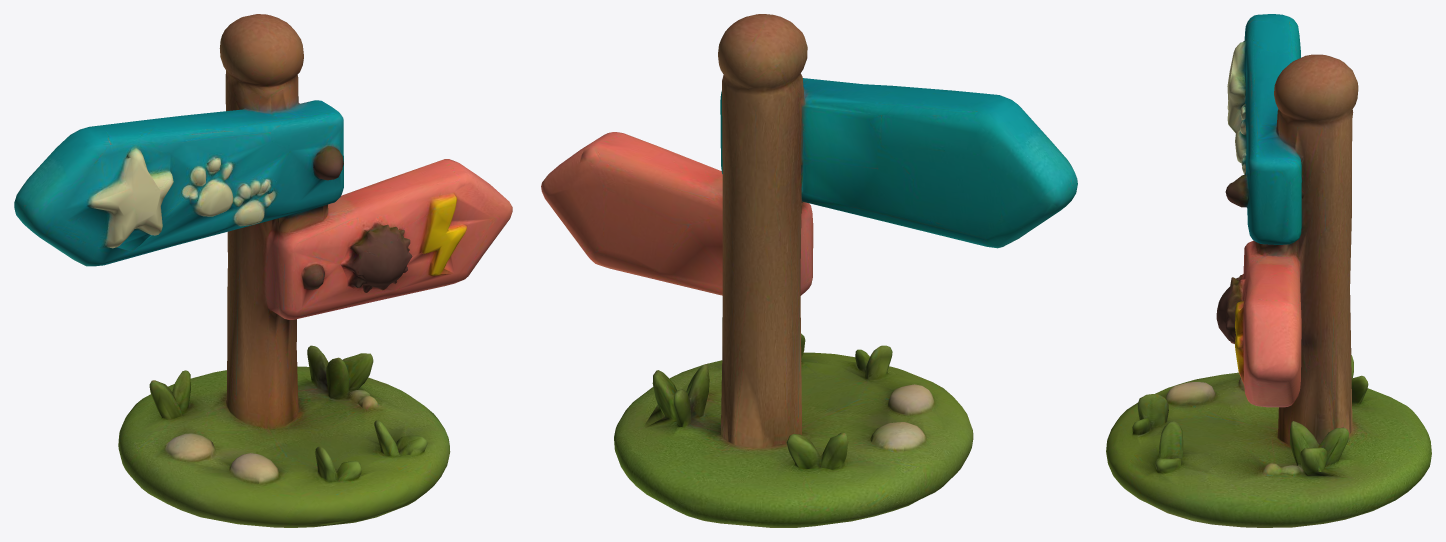
Rendered from route-choice-signpost.glb.
3 renders of one model, left to right at view 1: azimuth 30°, elevation 25°; view 2: azimuth 150°, elevation 25°; view 3: azimuth 270°, elevation 25°, orthographic. The views are drawn at different scales.
Parts seen in each view (by area): view 1: Mesh_0; view 2: Mesh_0; view 3: Mesh_0.
Part boxes in pixels (x1=…): Mesh_0: x1=14, y1=14, x2=512, y2=527; Mesh_0: x1=541, y1=14, x2=1077, y2=527; Mesh_0: x1=1106, y1=14, x2=1431, y2=527.
Bounding box in the file's own units: 2 × 1.86 × 1.22.
1 material, 1 textured.
